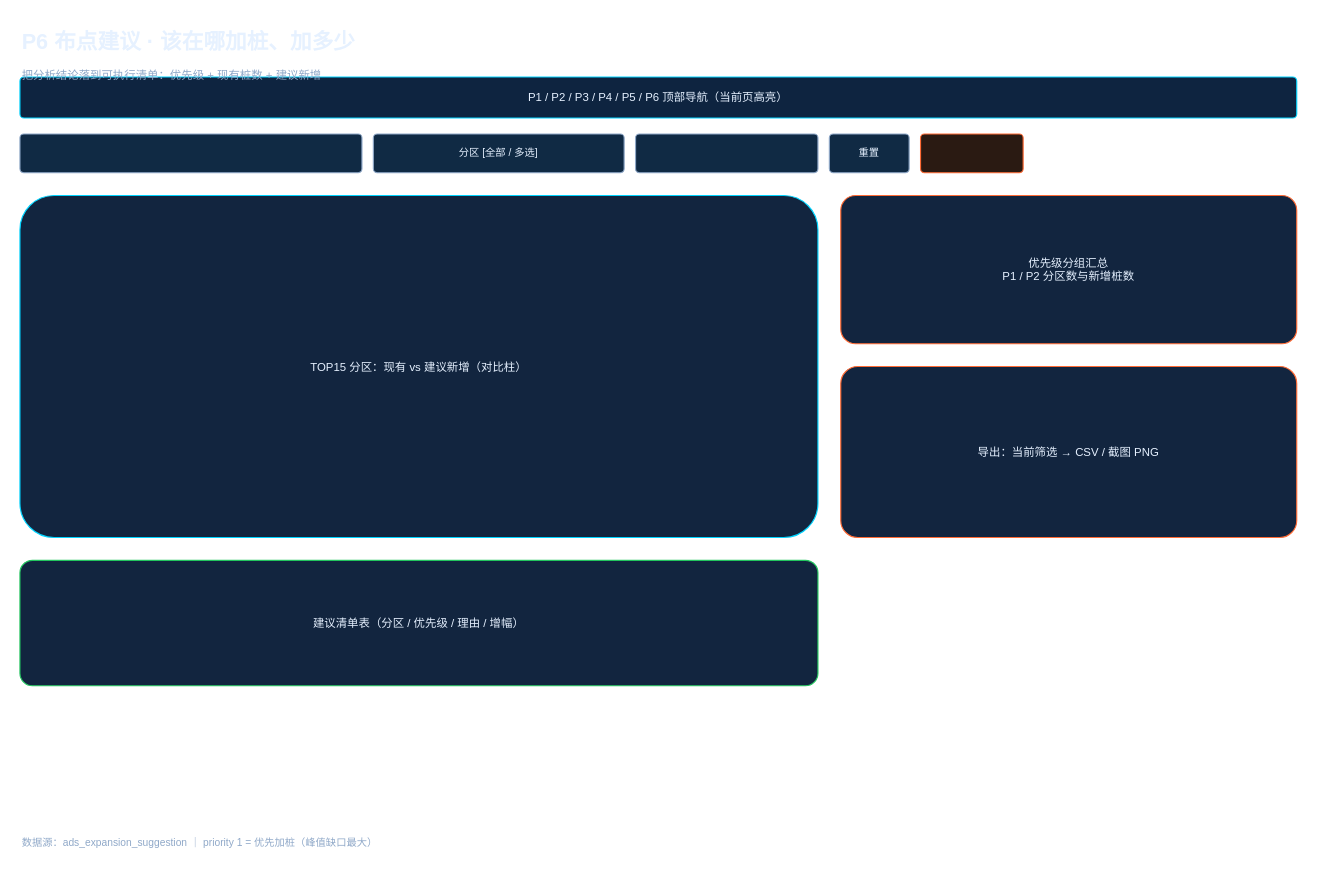
Image size: 1340x885. Some labels were removed from this diagram. The box of each missing label's shape, as (x1, y1, x2, y2) in pixels:
导出 CSV: (919, 133, 1023, 173)
小时 [0—23]: (634, 133, 818, 173)
时间范围 [2022-09-01 ~ 2023-02-28]: (19, 133, 362, 173)
